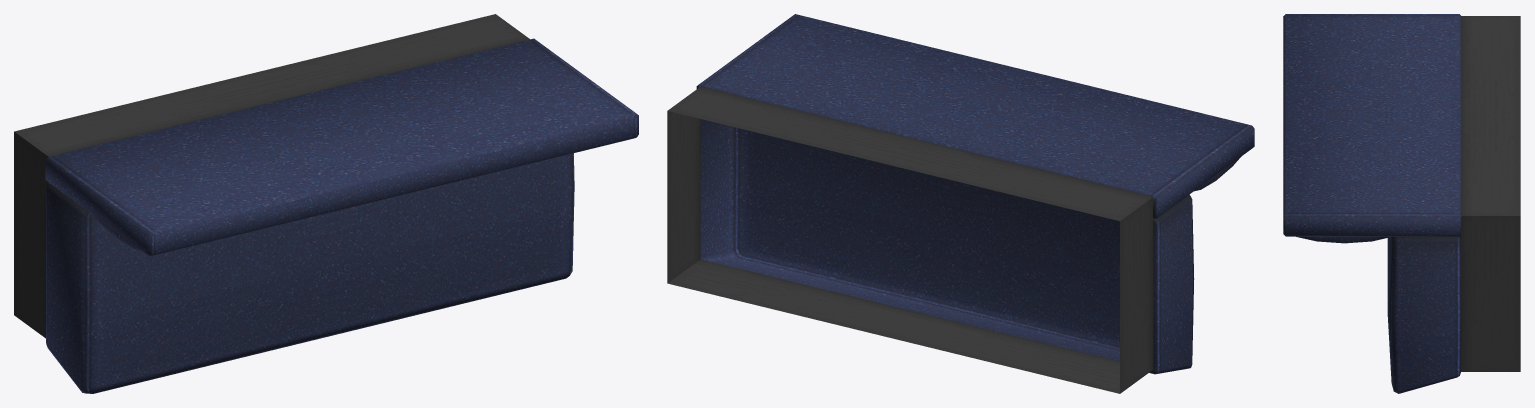
File: nt_bench_retro_LOD1.obj
3 renders of one model, left to right at view 1: azimuth 30°, elevation 25°; view 2: azimuth 150°, elevation 25°; view 3: azimuth 270°, elevation 25°, orthographic. The views are drawn at different scales.
Visible parts, largest first — view 1: mtl_nt_bench_retro; view 2: mtl_nt_bench_retro; view 3: mtl_nt_bench_retro.
Boxes of the visible parts, left/top/right/bottom form: mtl_nt_bench_retro: left=14, top=14, right=638, bottom=393; mtl_nt_bench_retro: left=667, top=14, right=1254, bottom=393; mtl_nt_bench_retro: left=1283, top=14, right=1520, bottom=393.
Size of the model in its own units: 183 by 74.95 by 90.03.
